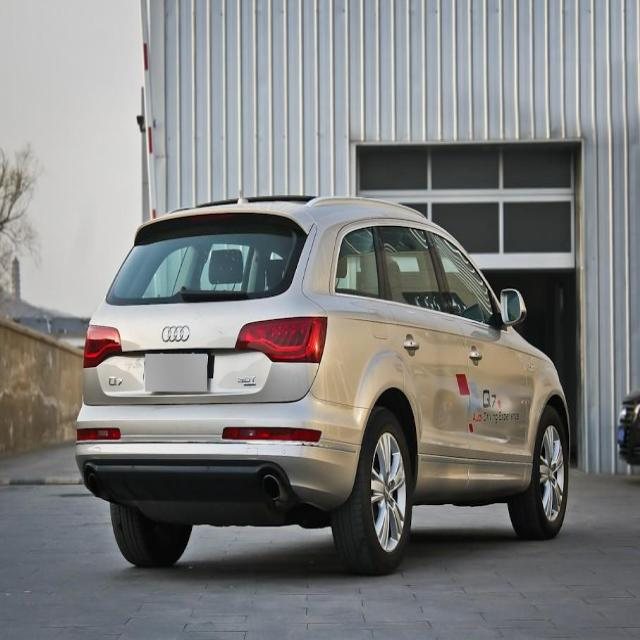back_glass: (105, 212, 308, 306)
back_left_side_light: (80, 319, 123, 371)
back_right_side_light: (234, 313, 328, 365)
door: (377, 222, 474, 488)
front_right_side_door: (428, 220, 530, 494)
front_right_side_mirror: (499, 286, 526, 332)
rear_bumper: (73, 392, 371, 512)
wheel: (336, 407, 414, 571), (524, 410, 568, 536), (109, 504, 193, 566)
